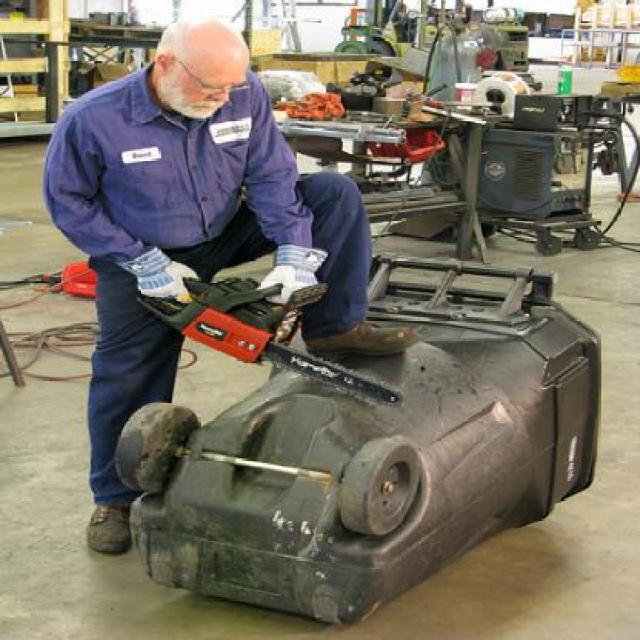Chainsaw: (137, 274, 408, 409)
